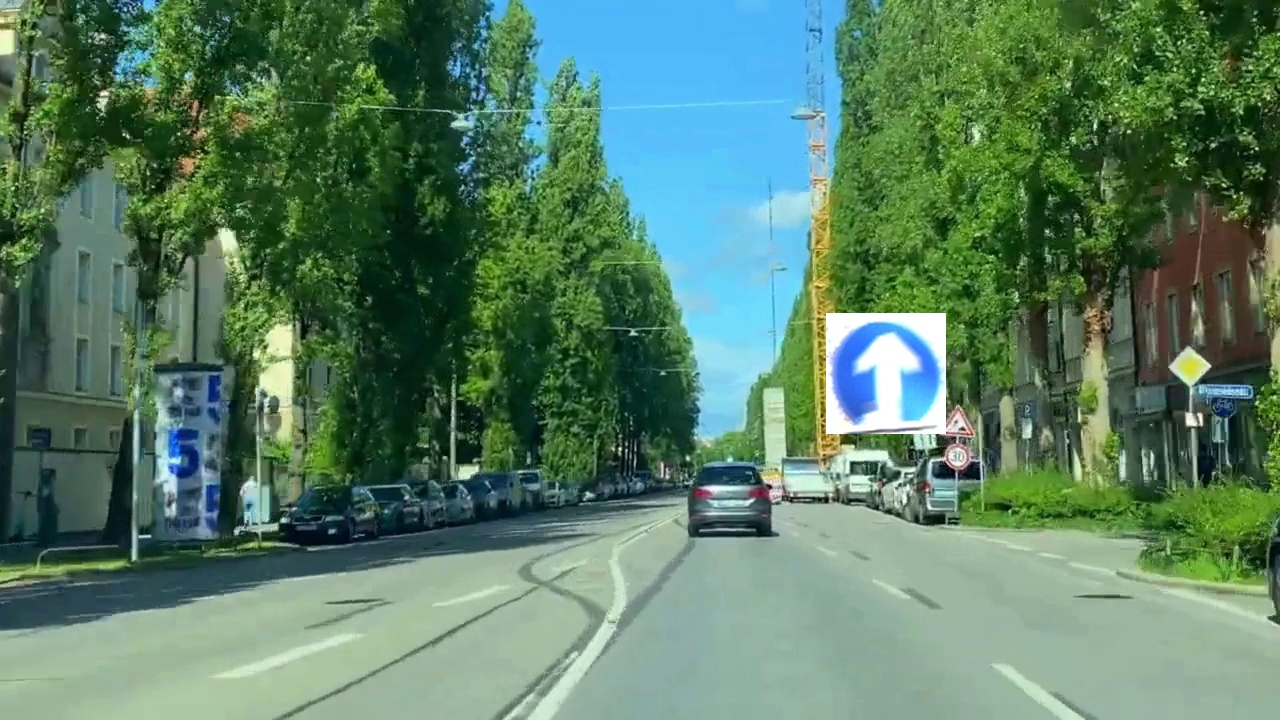Ahead only: (826, 313, 946, 434)
